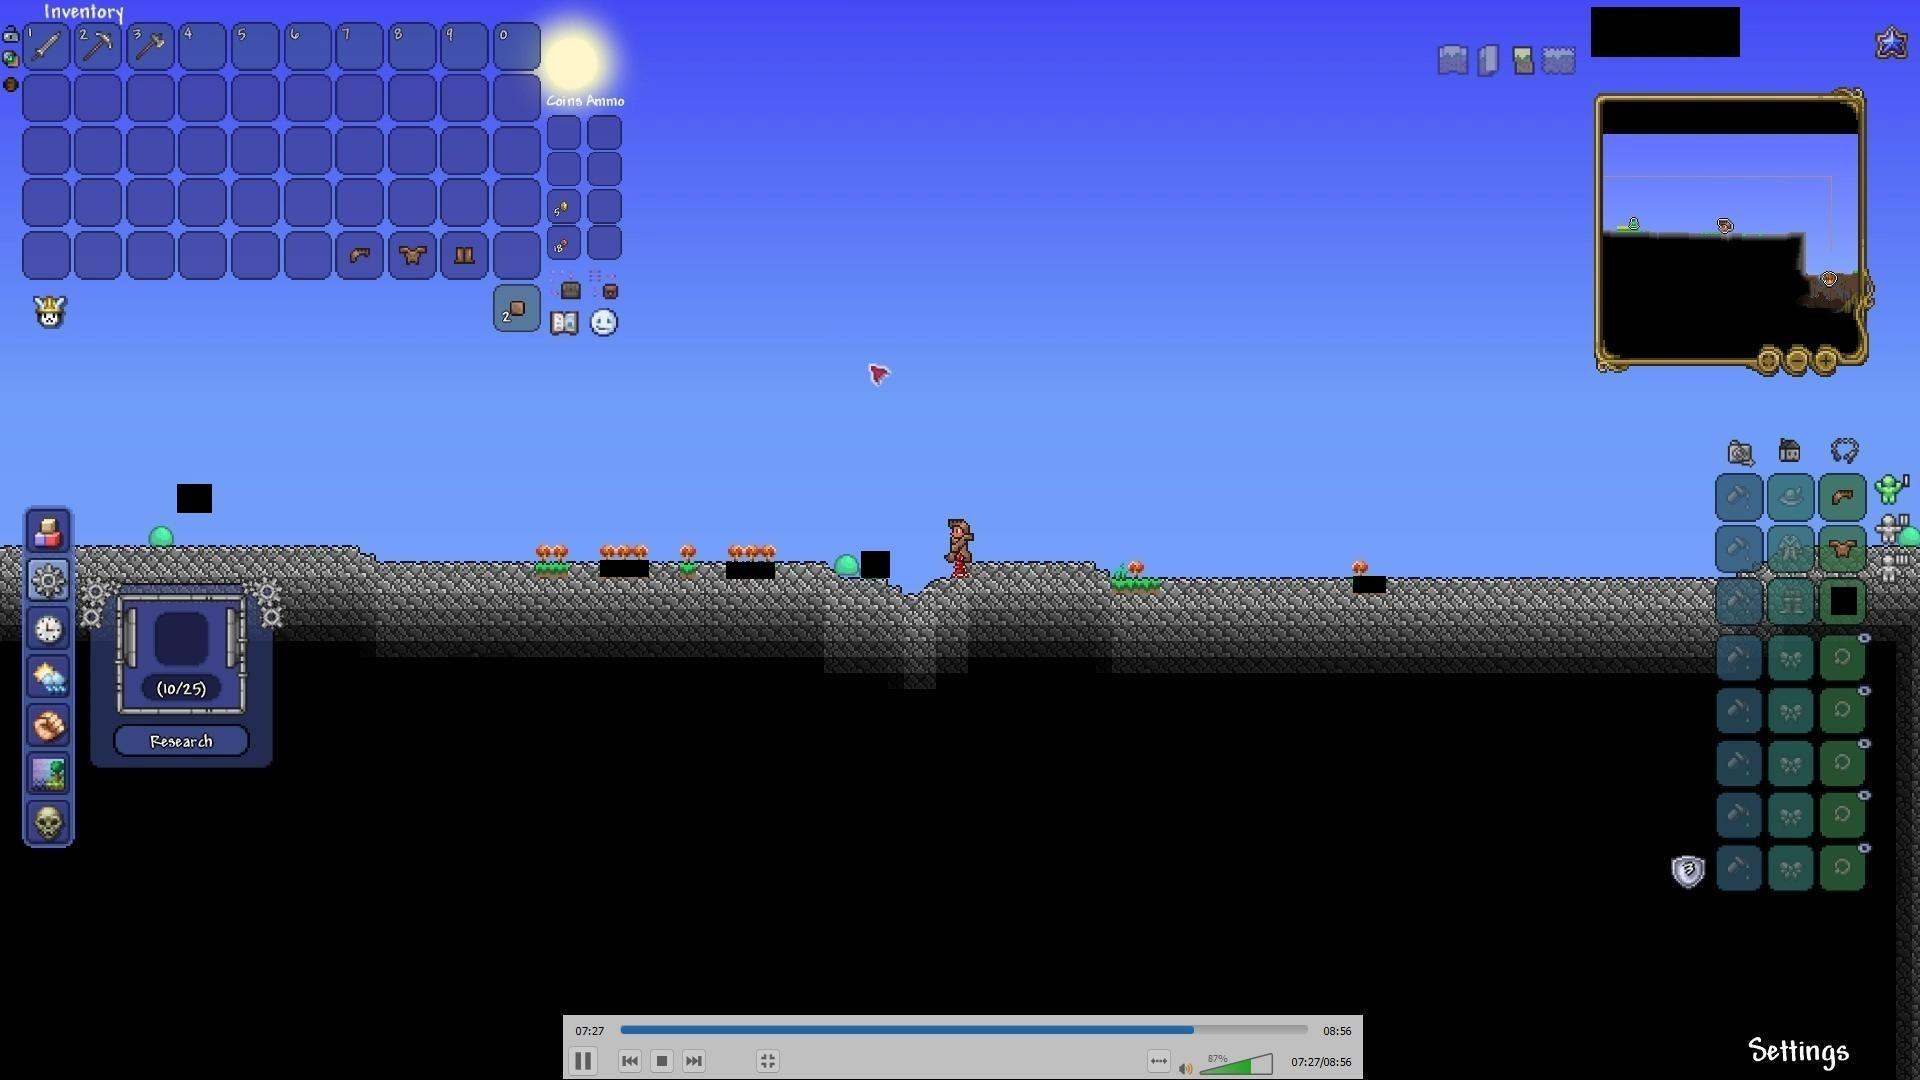breastplate: (397, 243, 429, 262), (1830, 537, 1859, 558)
dirt: (1112, 578, 1159, 595), (534, 560, 566, 578)
helmet: (345, 243, 375, 268), (1829, 484, 1857, 509)
legs: (452, 241, 477, 265)
slime: (832, 550, 858, 574), (148, 522, 175, 545)
